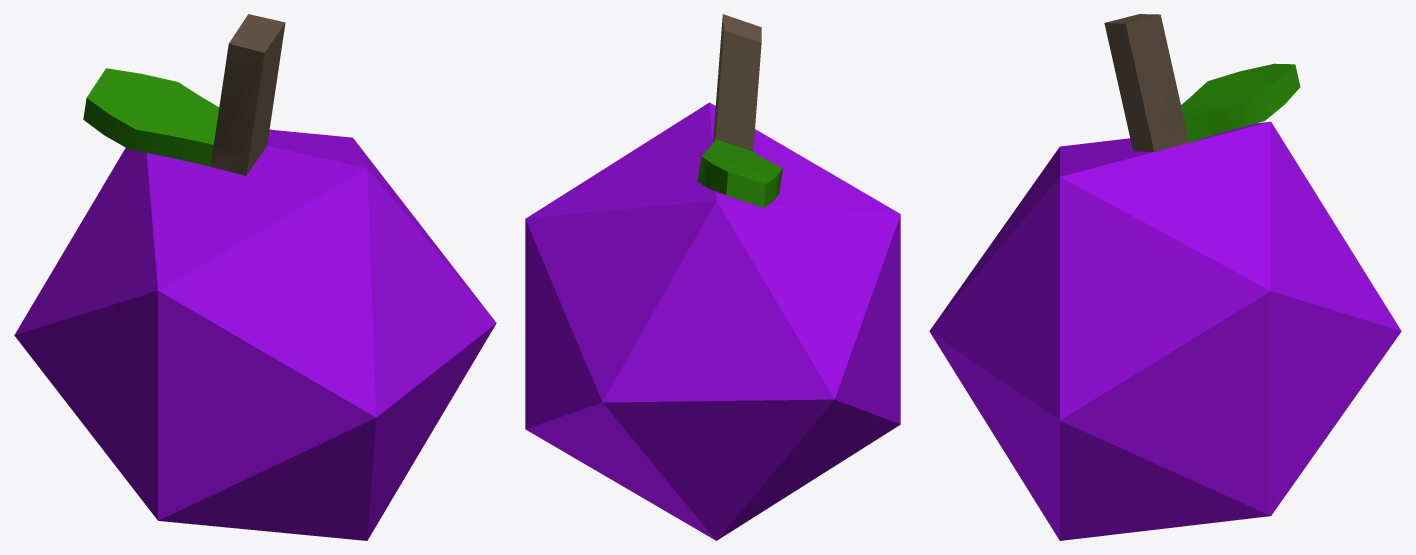
File: PurpleFruit.fbx
The picture shows the model from 3 angles, left to right: view 1: azimuth 30°, elevation 25°; view 2: azimuth 150°, elevation 25°; view 3: azimuth 270°, elevation 25°; orthographic projection. The views are drawn at different scales.
Visible parts, largest first — view 1: pPlatonic1.017, pPlatonic1.015, pPlatonic1.016; view 2: pPlatonic1.017, pPlatonic1.016, pPlatonic1.015; view 3: pPlatonic1.017, pPlatonic1.016, pPlatonic1.015.
Boxes of the visible parts, x1,y1,x2,y2 form: pPlatonic1.017: (14,129,496,540); pPlatonic1.015: (83,68,219,166); pPlatonic1.016: (210,14,285,175); pPlatonic1.017: (525,102,900,540); pPlatonic1.016: (713,14,761,151); pPlatonic1.015: (697,139,782,207); pPlatonic1.017: (929,121,1401,540); pPlatonic1.016: (1104,14,1189,151); pPlatonic1.015: (1181,63,1300,142).
Bounding box in the file's own units: 52.15 × 67.32 × 58.31.
